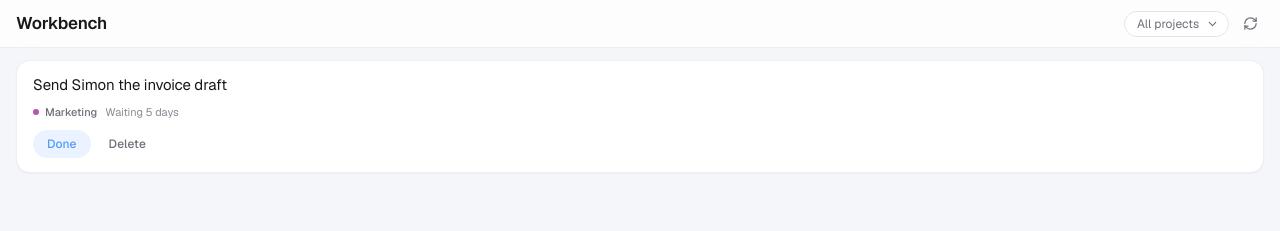
WorkbenchPage — Done exit › POSTs the fulfilled exit and optimistically removes the card
The image size is (1280, 231).
Click the button with test id "workbench-card-exit-fulfilled": (62, 144) [33, 130, 91, 158]
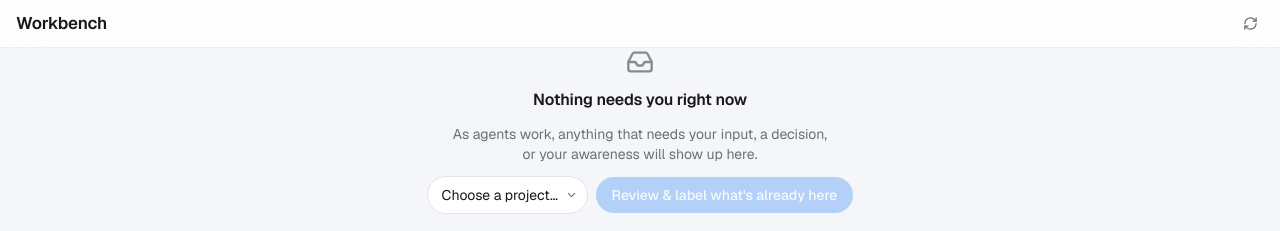
Result: the button with test id "workbench-card-entry-proj-a-e1" is gone
